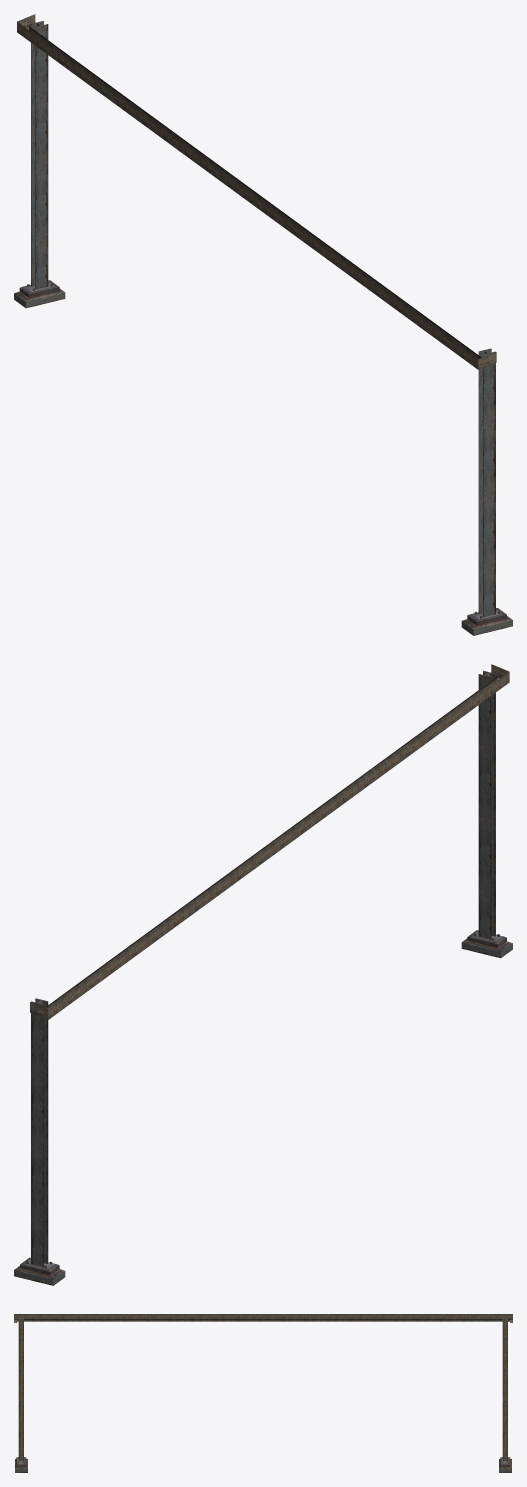
The model's file is rust_metaltrim_dm_0_lev1.glb.
3 views of the same model, one above another, from view 1: azimuth 30°, elevation 25°; view 2: azimuth 150°, elevation 25°; view 3: azimuth 270°, elevation 25° (orthographic). The views are drawn at different scales.
Visible parts, largest first — view 1: rust_metaltrim_dm_0_lev1; view 2: rust_metaltrim_dm_0_lev1; view 3: rust_metaltrim_dm_0_lev1.
Boxes of the visible parts, x1,y1,x2,y2 form: rust_metaltrim_dm_0_lev1: [14, 14, 512, 635]; rust_metaltrim_dm_0_lev1: [14, 664, 512, 1285]; rust_metaltrim_dm_0_lev1: [14, 1314, 512, 1472].
Size of the model in its own units: 0.3355 by 2.27 by 6.8.
Materials: 1 (1 with a texture image).
